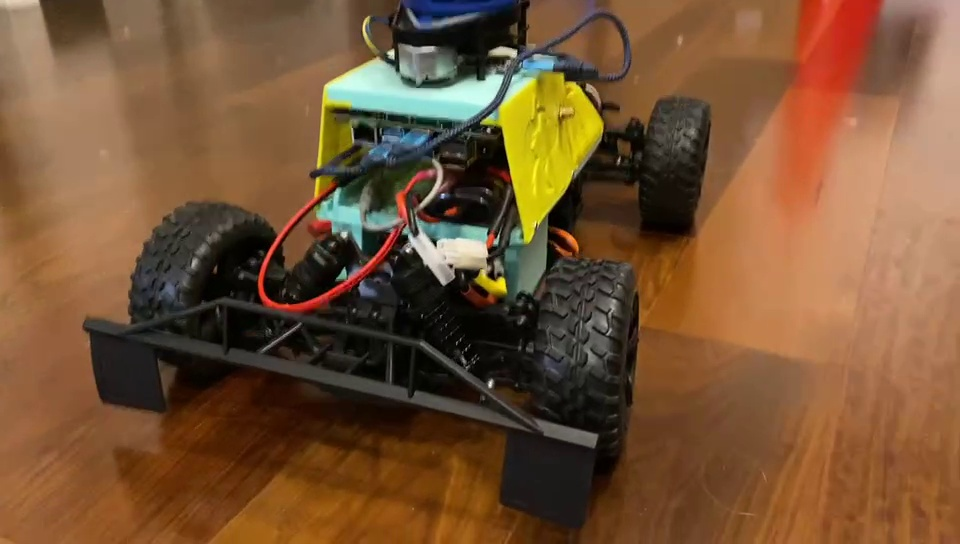mushr_car: (70, 1, 716, 530)
